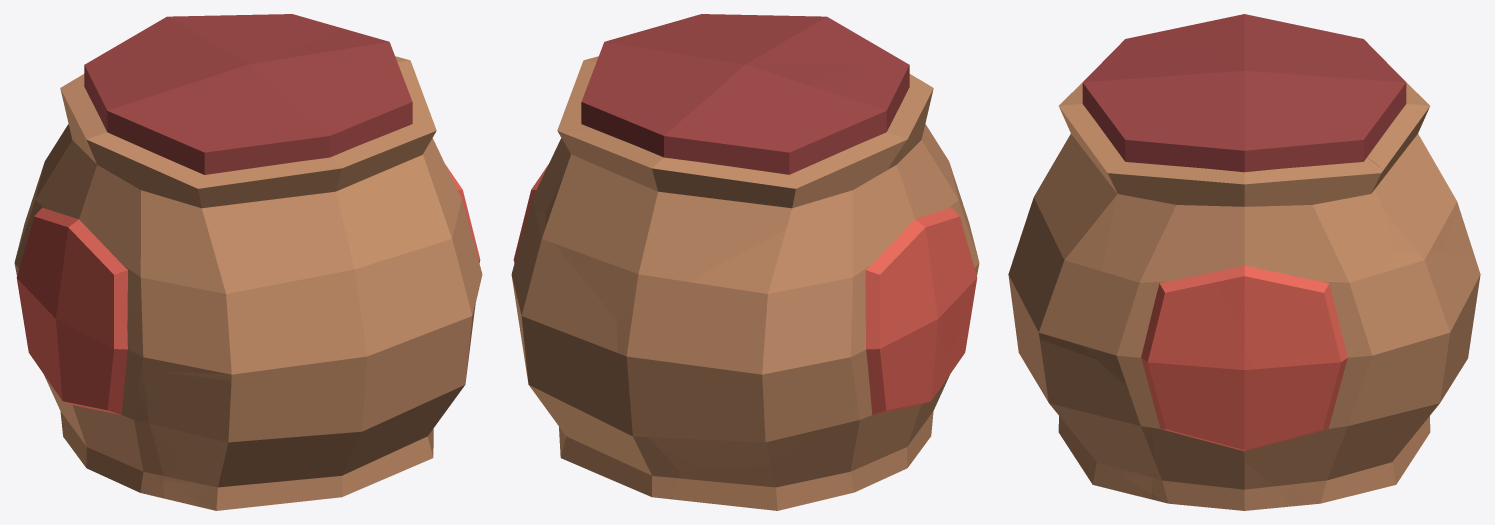
File: vase.fbx
3 renders of one model, left to right at view 1: azimuth 30°, elevation 25°; view 2: azimuth 150°, elevation 25°; view 3: azimuth 270°, elevation 25°, orthographic.
Visible parts, largest first — view 1: Cube.001, Cube.002_cell.001, Cube.002_cell.007, Cube.003_cell.001, Cube.001_cell.001, Cube.002_cell.005, Cube.003_cell.002, Cube.003_cell, Cube.001_cell.005, Cube.002_cell.003; view 2: Cube.001, Cube.002_cell.003, Cube.002_cell, Cube.002_cell.006, Cube.003_cell.001, Cube.002_cell.005, Cube.003_cell.002, Cube.001_cell.001, Cube.002_cell.001, Cube.002_cell.004, Cube.001_cell.004, Cube.001_cell.005; view 3: Cube.001, Cube.002_cell.004, Cube.002_cell.006, Cube.002_cell.001, Cube.001_cell.006, Cube.003_cell.002, Cube.002_cell, Cube.003_cell.001, Cube.002_cell.007, Cube.001_cell.002, Cube.003_cell, Cube.001_cell.003 (+1 smaller).
Part boxes in pixels (bbox=[...]): Cube.001: bbox=[14, 17, 482, 510]; Cube.002_cell.001: bbox=[86, 131, 476, 380]; Cube.002_cell.007: bbox=[144, 304, 475, 510]; Cube.003_cell.001: bbox=[85, 47, 247, 174]; Cube.001_cell.001: bbox=[22, 207, 106, 383]; Cube.002_cell.005: bbox=[60, 345, 163, 492]; Cube.003_cell.002: bbox=[167, 14, 344, 70]; Cube.003_cell: bbox=[204, 102, 412, 174]; Cube.001_cell.005: bbox=[88, 253, 127, 413]; Cube.002_cell.003: bbox=[14, 126, 88, 267]; Cube.001: bbox=[513, 14, 979, 498]; Cube.002_cell.003: bbox=[616, 193, 921, 468]; Cube.002_cell: bbox=[545, 127, 888, 317]; Cube.002_cell.006: bbox=[511, 213, 679, 496]; Cube.003_cell.001: bbox=[728, 63, 909, 173]; Cube.002_cell.005: bbox=[672, 375, 949, 510]; Cube.003_cell.002: bbox=[581, 62, 755, 135]; Cube.001_cell.001: bbox=[865, 212, 959, 376]; Cube.002_cell.001: bbox=[887, 74, 977, 274]; Cube.002_cell.004: bbox=[527, 60, 596, 216]; Cube.001_cell.004: bbox=[866, 330, 886, 413]; Cube.001_cell.005: bbox=[947, 218, 977, 351]; Cube.001: bbox=[1008, 14, 1480, 510]; Cube.002_cell.004: bbox=[1094, 157, 1394, 385]; Cube.002_cell.006: bbox=[1241, 252, 1477, 506]; Cube.002_cell.001: bbox=[1008, 82, 1117, 359]; Cube.001_cell.006: bbox=[1141, 272, 1251, 393]; Cube.003_cell.002: bbox=[1234, 67, 1405, 154]; Cube.002_cell: bbox=[1367, 104, 1462, 253]; Cube.003_cell.001: bbox=[1125, 14, 1358, 68]; Cube.002_cell.007: bbox=[1040, 339, 1154, 495]; Cube.001_cell.002: bbox=[1157, 366, 1324, 451]; Cube.003_cell: bbox=[1082, 83, 1300, 172]; Cube.001_cell.003: bbox=[1214, 265, 1347, 427].
Bounding box in the file's own units: 291 × 275 × 311.
